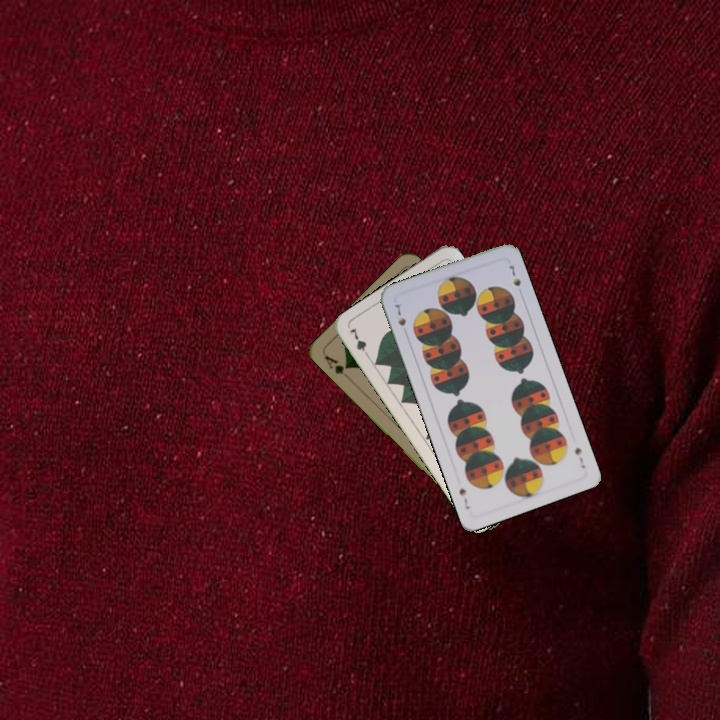G7: (345, 323, 373, 361)
GA: (321, 351, 354, 383)
S7: (390, 300, 408, 329), (570, 442, 588, 471)
